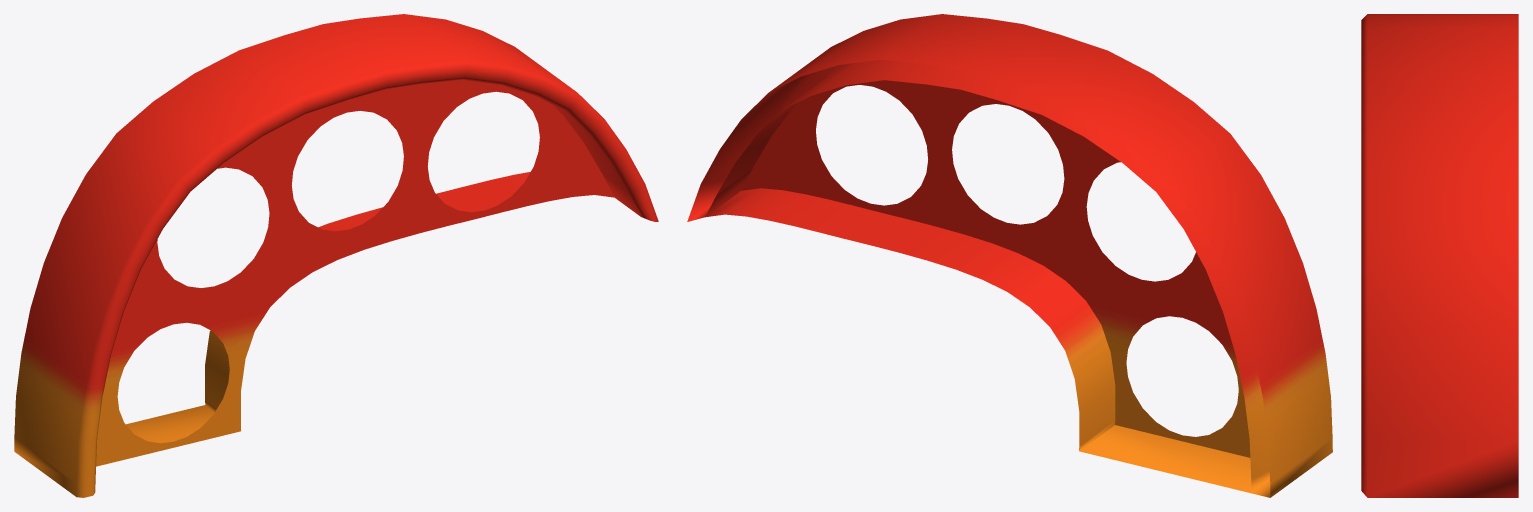
The model's file is AmongUs_Cut_01_0.FBX.
The picture shows the model from 3 angles, left to right: view 1: azimuth 30°, elevation 25°; view 2: azimuth 150°, elevation 25°; view 3: azimuth 270°, elevation 25°; orthographic projection. The views are drawn at different scales.
Parts seen in each view (by area): view 1: AmongUs_Cut_01_0; view 2: AmongUs_Cut_01_0; view 3: AmongUs_Cut_01_0.
Boxes of the visible parts, x1,y1,x2,y2 form: AmongUs_Cut_01_0: [14, 14, 658, 497]; AmongUs_Cut_01_0: [687, 14, 1332, 497]; AmongUs_Cut_01_0: [1361, 14, 1518, 497].
Bounding box in the file's own units: 3.83 × 0.74 × 2.21.
